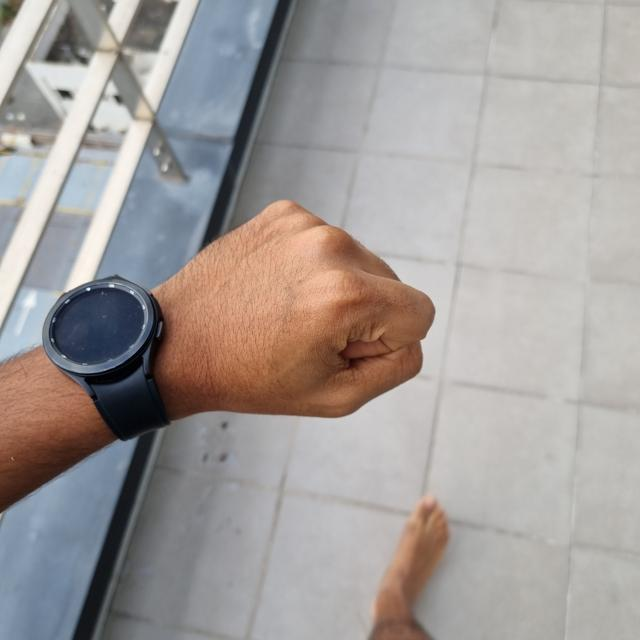Rock: (154, 198, 434, 418)
